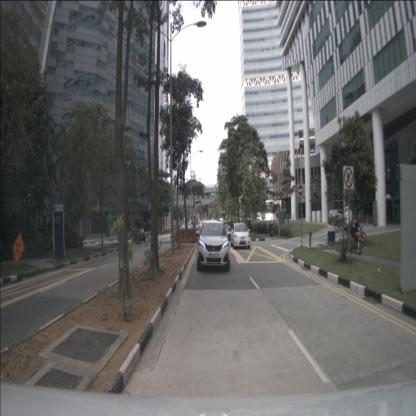barrier: (178, 228, 190, 243), (189, 228, 198, 243)
